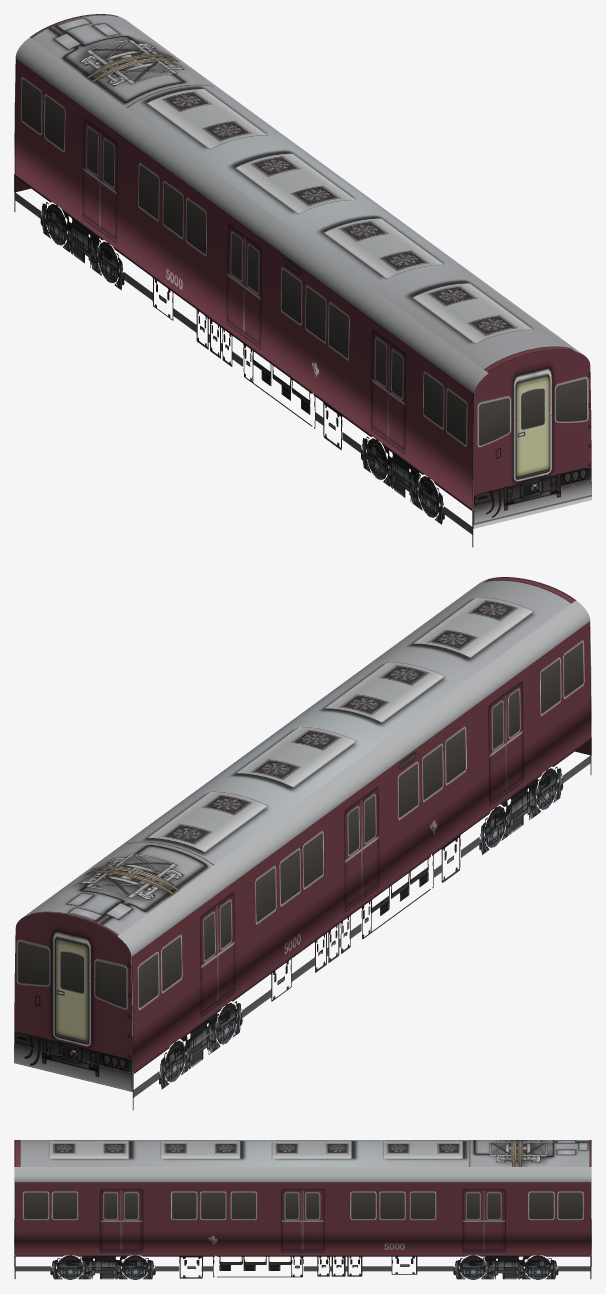
Rendered from car2.glb.
The picture shows the model from 3 angles, top to bottom: view 1: azimuth 30°, elevation 25°; view 2: azimuth 150°, elevation 25°; view 3: azimuth 270°, elevation 25°; orthographic projection. The views are drawn at different scales.
Parts seen in each view (by area): view 1: hankyu5000-car2; view 2: hankyu5000-car2; view 3: hankyu5000-car2.
Boxes of the visible parts, bbox=[...] form: hankyu5000-car2: bbox=[14, 14, 591, 547]; hankyu5000-car2: bbox=[14, 577, 591, 1110]; hankyu5000-car2: bbox=[14, 1140, 591, 1279].
Size of the model in its own units: 2.75 by 4.02 by 18.51.
Materials: 8 (7 with a texture image).
